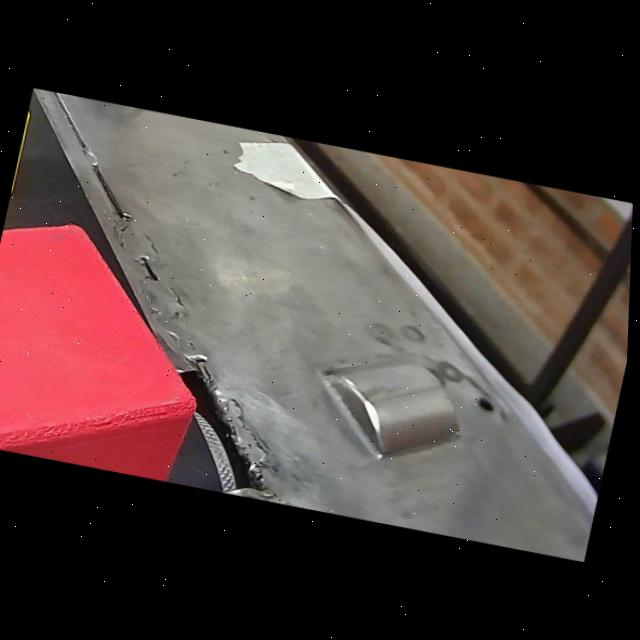redBox: (0, 206, 241, 484)
yellowBox: (2, 88, 43, 243)
